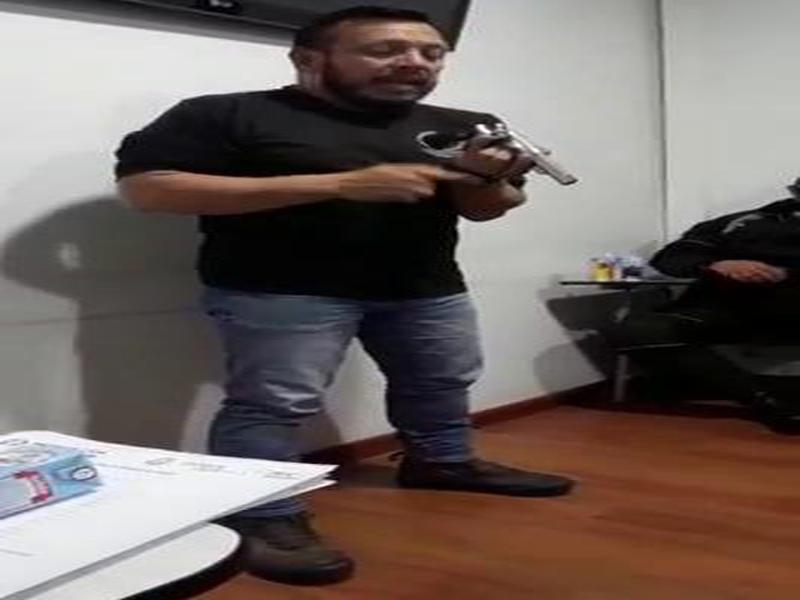Revolver: (410, 106, 575, 211)
